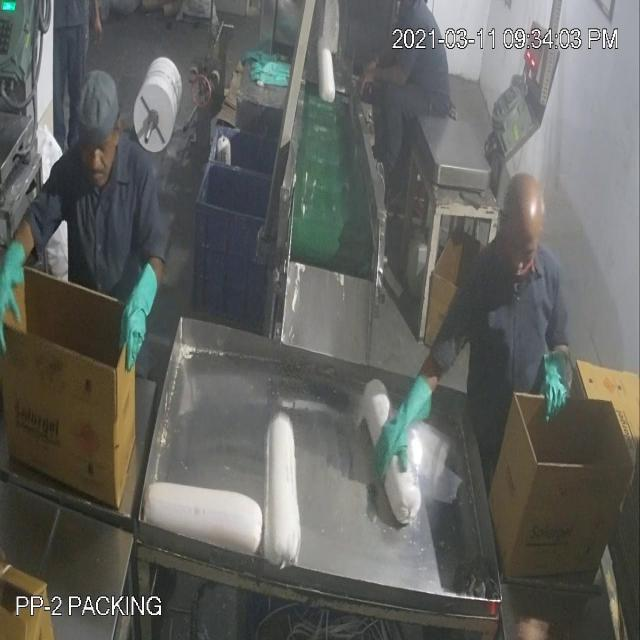Gloves: (18, 27, 400, 416)
